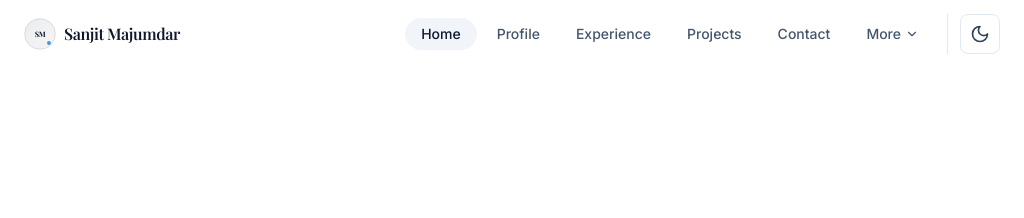
TopNav (editorial + More dropdown) › "More" dropdown › clicking outside the dropdown closes it
Click the button "More" at (893, 34), box [850,18,935,50]
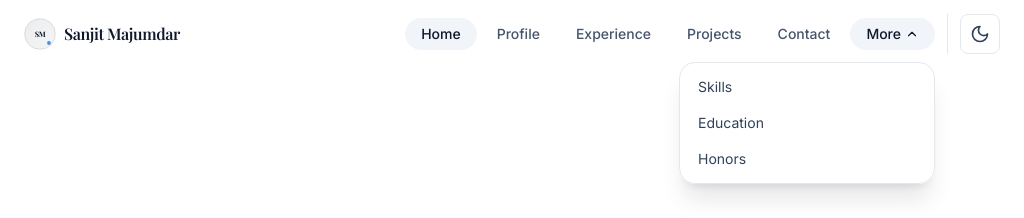
Now the button "More" is expanded, box [850,18,935,50]
# mousedown on document body, outside the dropdown
Press the mouse on the element that starts with "Sanjit Majumdar" at (512, 34), box [0,0,1023,69]
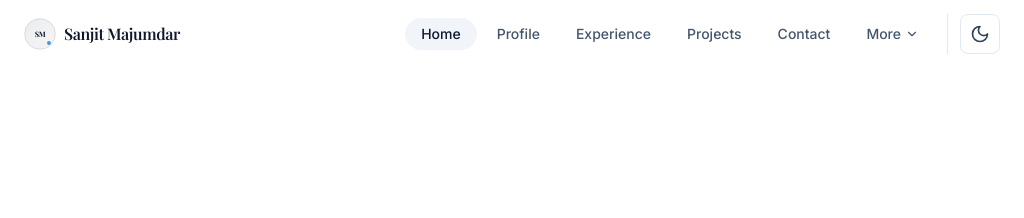
Now the button "More" is collapsed, box [850,18,935,50]
